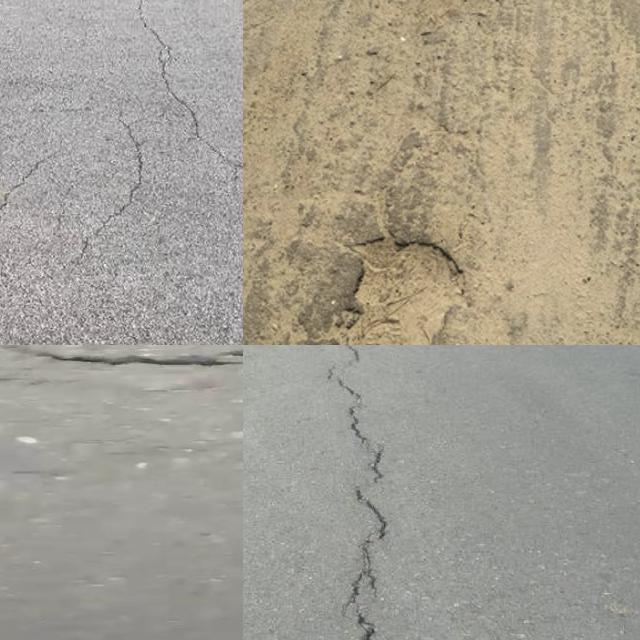Lubang: (332, 237, 467, 345)
Melintang: (0, 345, 243, 378)
Memanjang: (320, 345, 401, 640), (125, 0, 243, 190)
